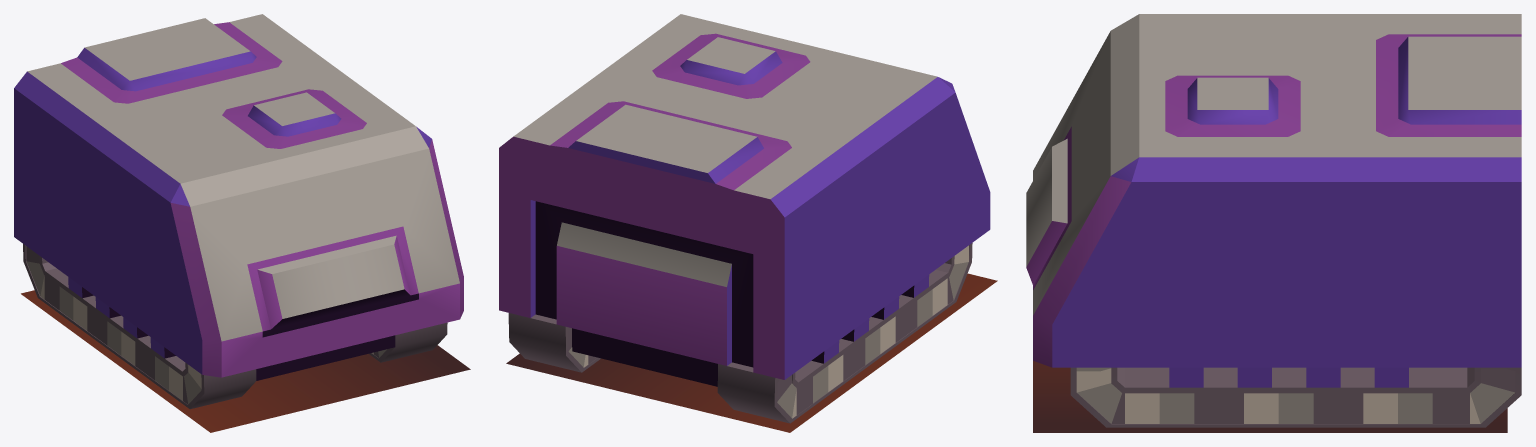
The model's file is APCMesh.BlackHole.glb.
The picture shows the model from 3 angles, left to right: view 1: azimuth 30°, elevation 25°; view 2: azimuth 150°, elevation 25°; view 3: azimuth 270°, elevation 25°; orthographic projection. The views are drawn at different scales.
Visible parts, largest first — view 1: APCMesh.BlackHole; view 2: APCMesh.BlackHole; view 3: APCMesh.BlackHole.
Boxes of the visible parts, box(x1,y1,x2,y2) form: APCMesh.BlackHole: box(14, 14, 470, 432); APCMesh.BlackHole: box(499, 14, 997, 432); APCMesh.BlackHole: box(1026, 14, 1521, 432).
Bounding box in the file's own units: 1.51 × 1.25 × 1.98.
Materials: 1 (1 with a texture image).
